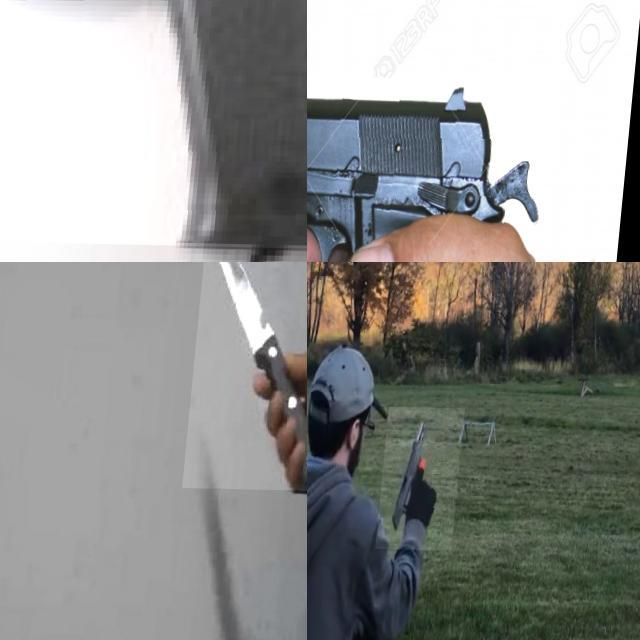-: (189, 262, 307, 488)
gun-knife-thesis - v11 Yolov5 augmented: (0, 0, 307, 262), (307, 70, 555, 262), (386, 406, 472, 550)
